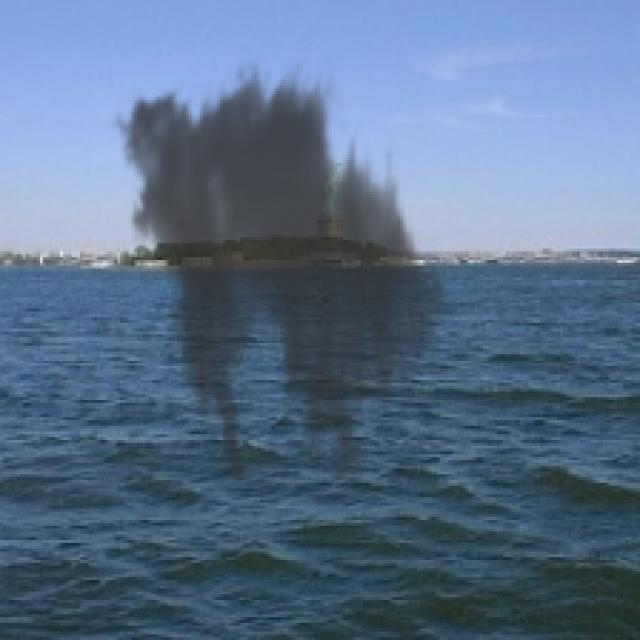smoke: (106, 54, 457, 480)
